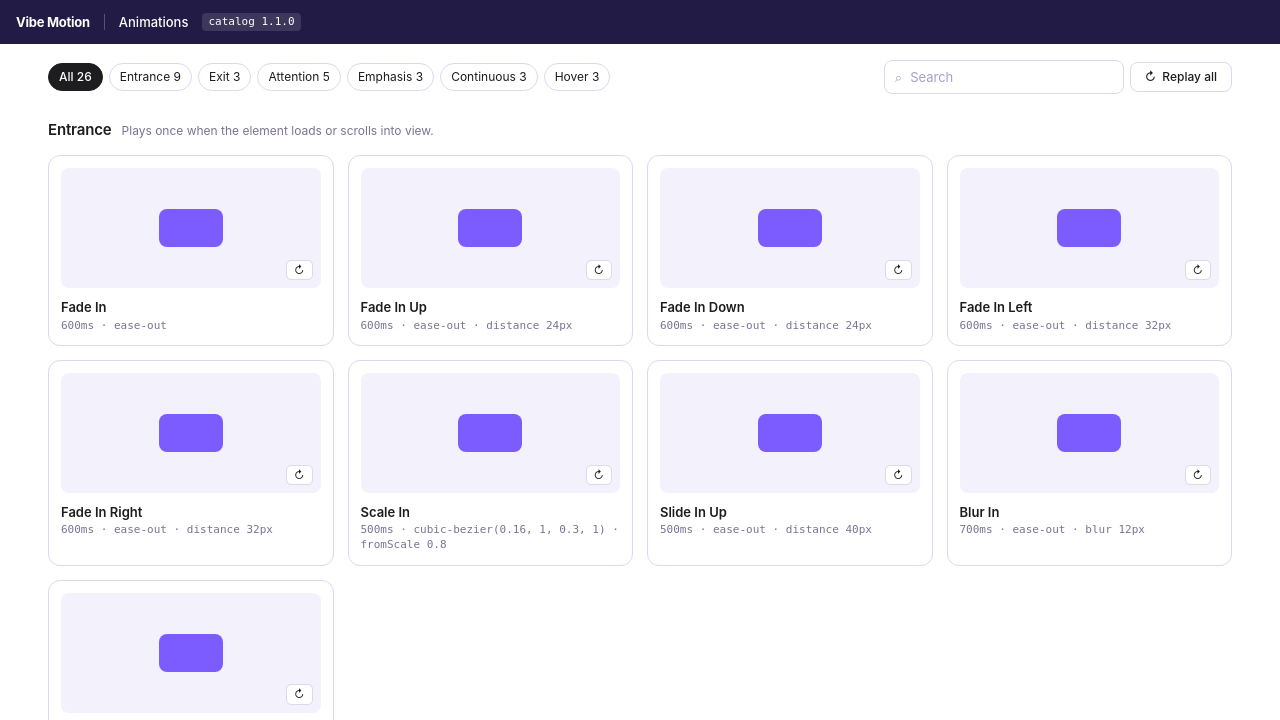
Test: HelpScreen › narrows to one section when its chip is pressed
This screenshot has width=1280, height=720.
Click the button "Exit 3" at (225, 77), box [198,63,251,90]
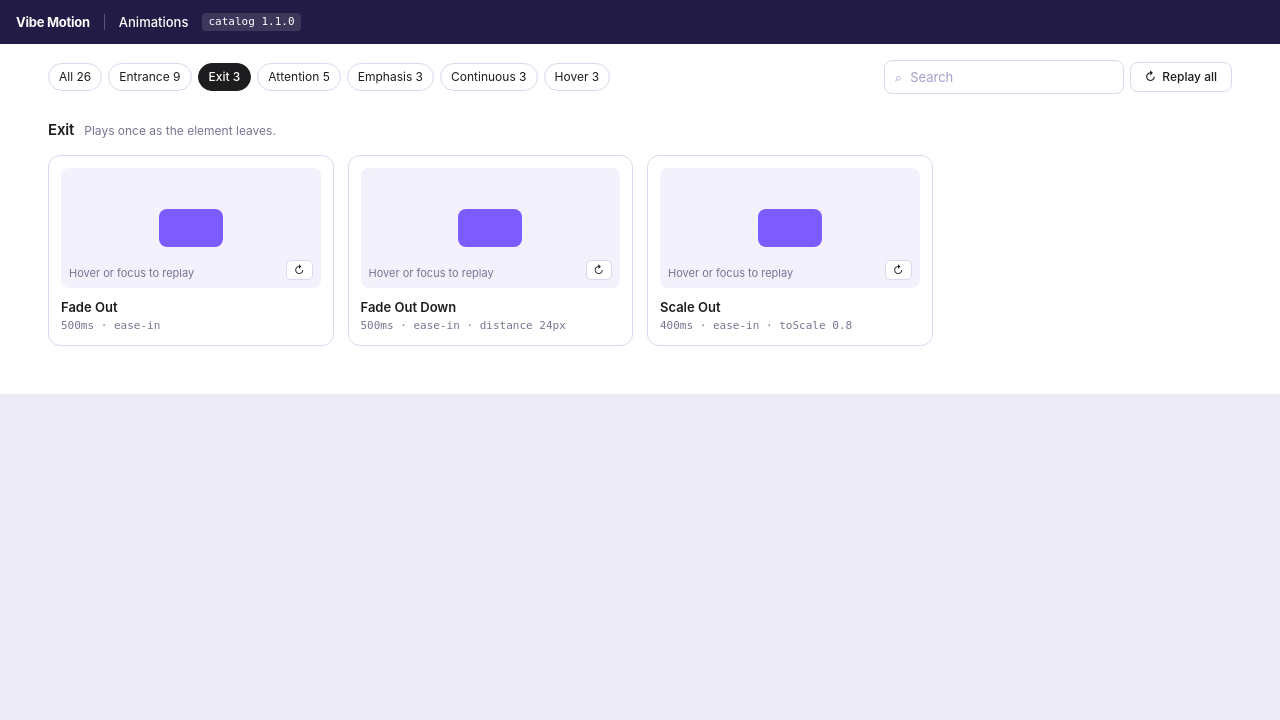
expect the element "Exit" is shown: met, box [48,120,932,346]
expect the number of list items with test id "catalog-card" is 3: met, box [48,155,334,346]; [348,155,633,346]; [647,155,932,346]
